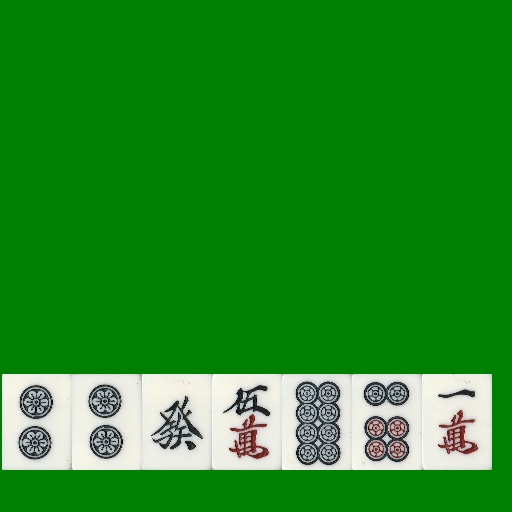1m: (422, 374, 492, 470)
2p: (2, 374, 72, 470), (72, 374, 142, 470)
5m: (212, 374, 282, 470)
6p: (352, 374, 422, 470)
8p: (282, 374, 352, 470)
hatsu: (142, 374, 212, 470)
